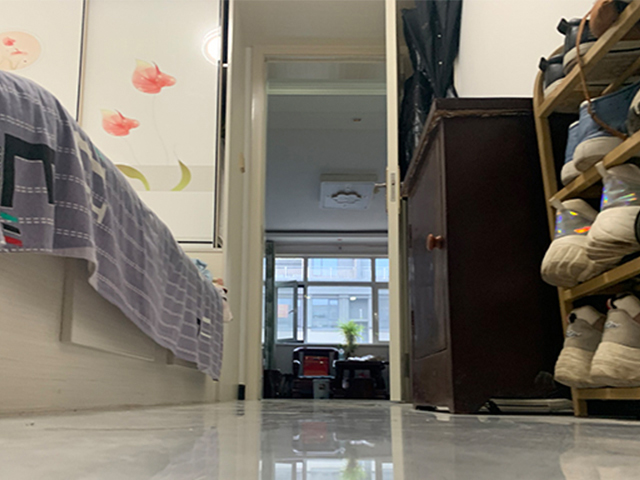bed: (1, 69, 230, 407)
cabinet: (401, 96, 566, 413)
stool: (291, 346, 338, 399)
table: (334, 359, 387, 399)
trashcan: (312, 378, 331, 399)
